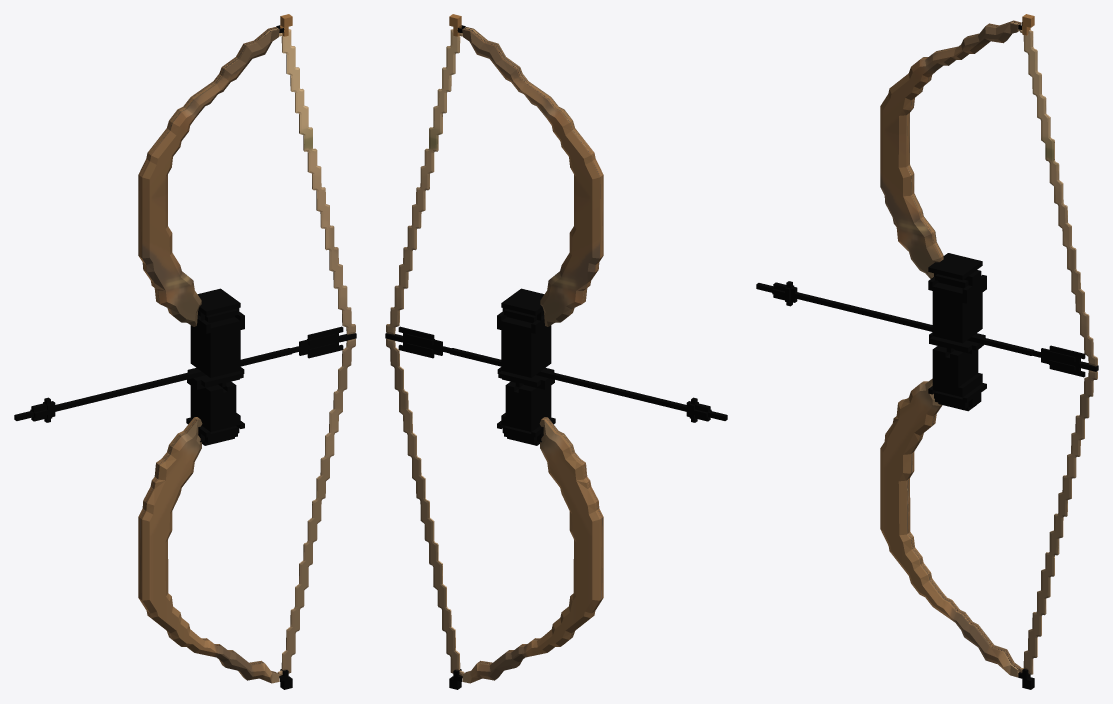
Rendered from bow_pulling_1.obj.
3 renders of one model, left to right at view 1: azimuth 30°, elevation 25°; view 2: azimuth 150°, elevation 25°; view 3: azimuth 330°, elevation 25°, orthographic.
Parts seen in each view (by area): view 1: bow_pulling_1; view 2: bow_pulling_1; view 3: bow_pulling_1.
Part boxes in pixels (bbox=[...]): bow_pulling_1: bbox=[14, 14, 356, 689]; bow_pulling_1: bbox=[385, 14, 727, 689]; bow_pulling_1: bbox=[756, 14, 1098, 689].
Size of the model in its own units: 0.8229 by 1.55 by 0.0833.
